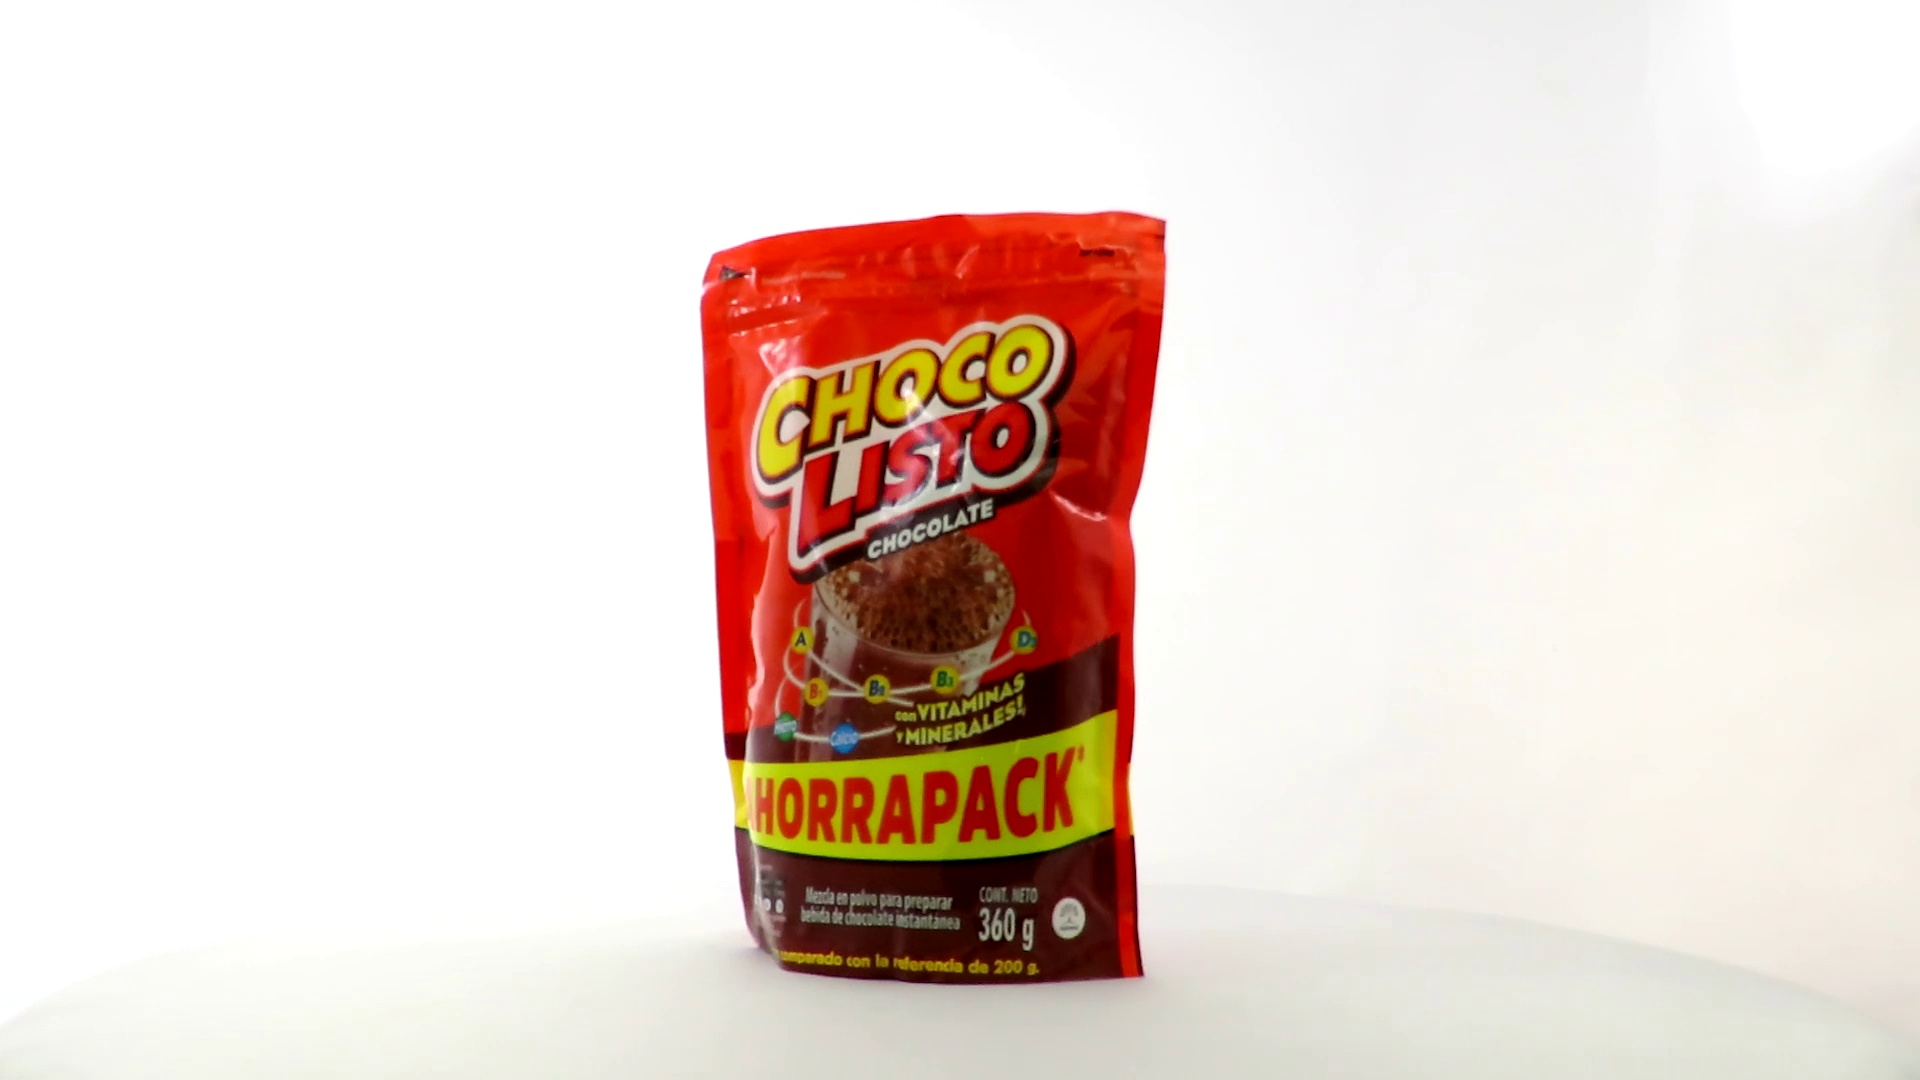COL0170103DYP36000: (695, 206, 1172, 992)
